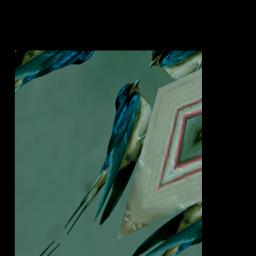Swallow: (32, 72, 183, 251)
